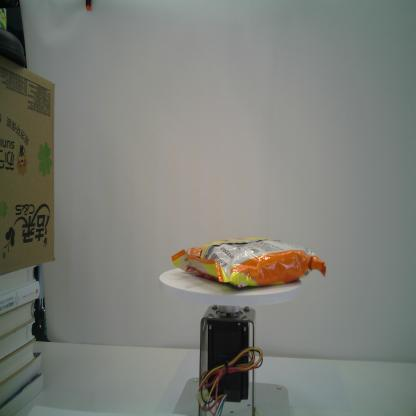Instant Noodles: (172, 237, 326, 287)
